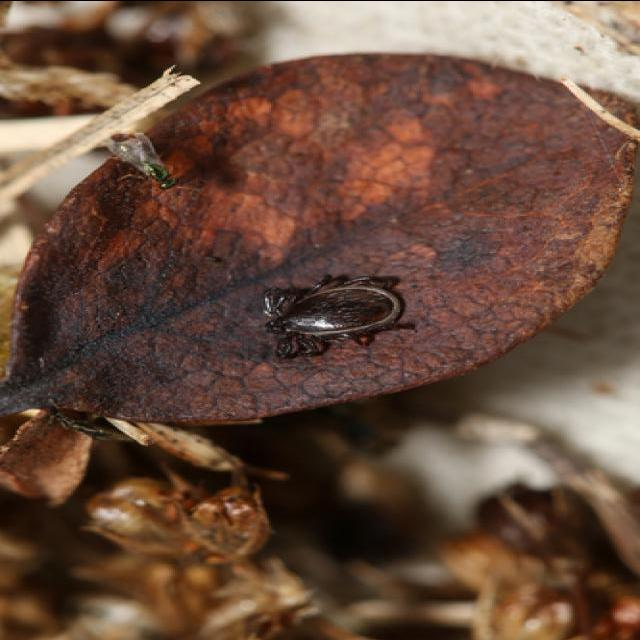Ixodes Ricinus-M: (263, 275, 417, 362)
